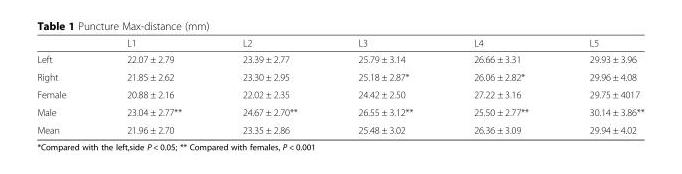table: (36, 36, 643, 135)
table column: (95, 36, 211, 135), (211, 36, 327, 135), (442, 36, 558, 135), (327, 36, 442, 135), (558, 36, 643, 135), (36, 36, 95, 135)
table column header: (36, 36, 643, 50)
table row: (36, 67, 643, 85), (36, 85, 643, 103), (36, 50, 643, 67), (36, 103, 643, 120), (36, 120, 643, 135), (36, 36, 643, 50)
